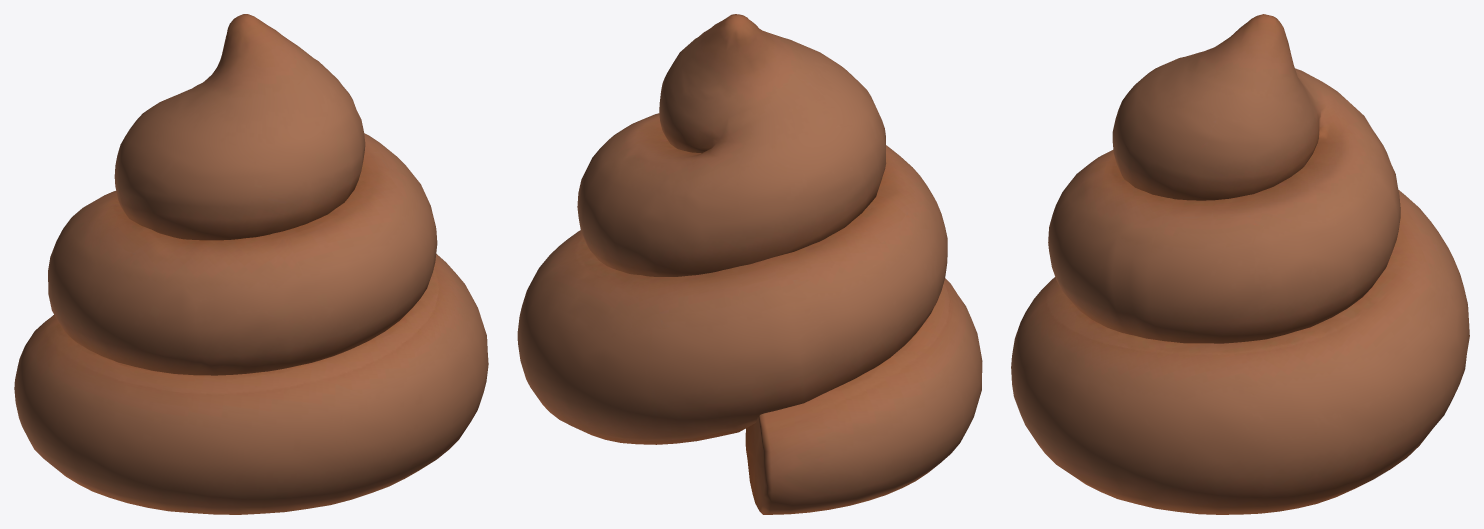
File: asset_pack_item_glb-vd7d0dcraj58ycbcm7n9arqjjx8bztjr-12-ks782ywreg4dxawtdamcat5bqh8bzn4j.glb
3 views of the same model, side by side, from view 1: azimuth 30°, elevation 25°; view 2: azimuth 150°, elevation 25°; view 3: azimuth 270°, elevation 25° (orthographic). The views are drawn at different scales.
Parts seen in each view (by area): view 1: prop-poop; view 2: prop-poop; view 3: prop-poop.
Boxes of the visible parts, box(x1,y1,x2,y2) form: prop-poop: box(14, 14, 488, 514); prop-poop: box(517, 14, 982, 514); prop-poop: box(1011, 14, 1469, 514).
Size of the model in its own units: 0.998 by 0.998 by 0.9434.
1 material, 1 textured.
